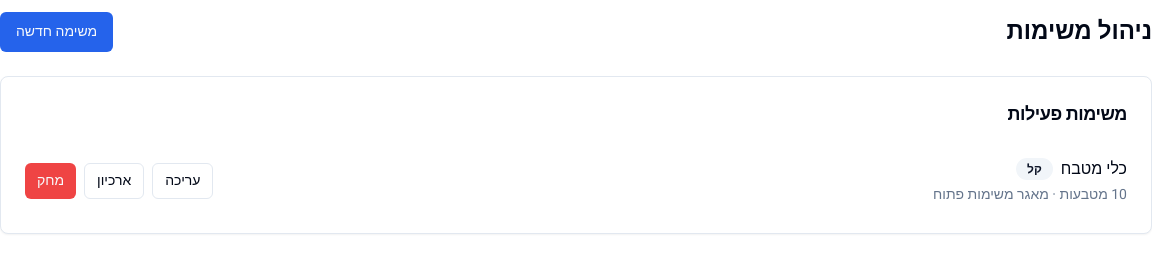
Test case: ChoresPage › delete button click with pending completion shows warning and does not open dialog
The image size is (1164, 271).
Click the button "מחק": click(51, 181) [25,163,76,199]
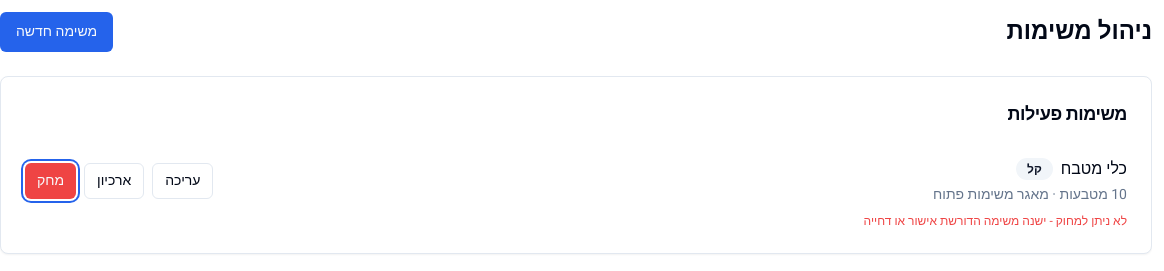
Expected: the message reads "לא ניתן למחוק - ישנה משימה הדורשת אישור או דחייה", [864,212,1127,230]
